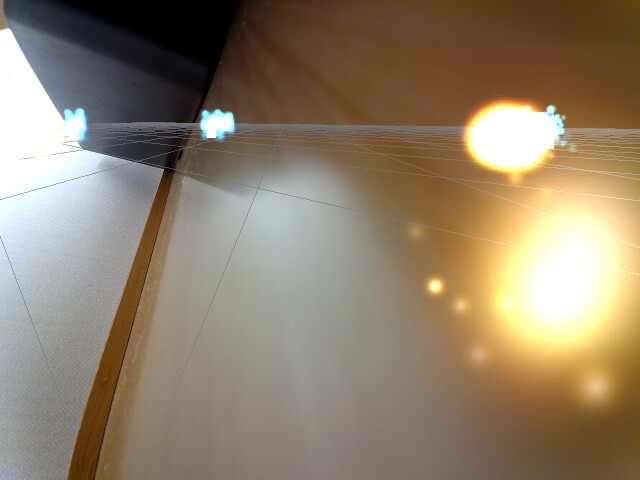fire: (478, 202, 624, 342), (462, 100, 553, 171)
